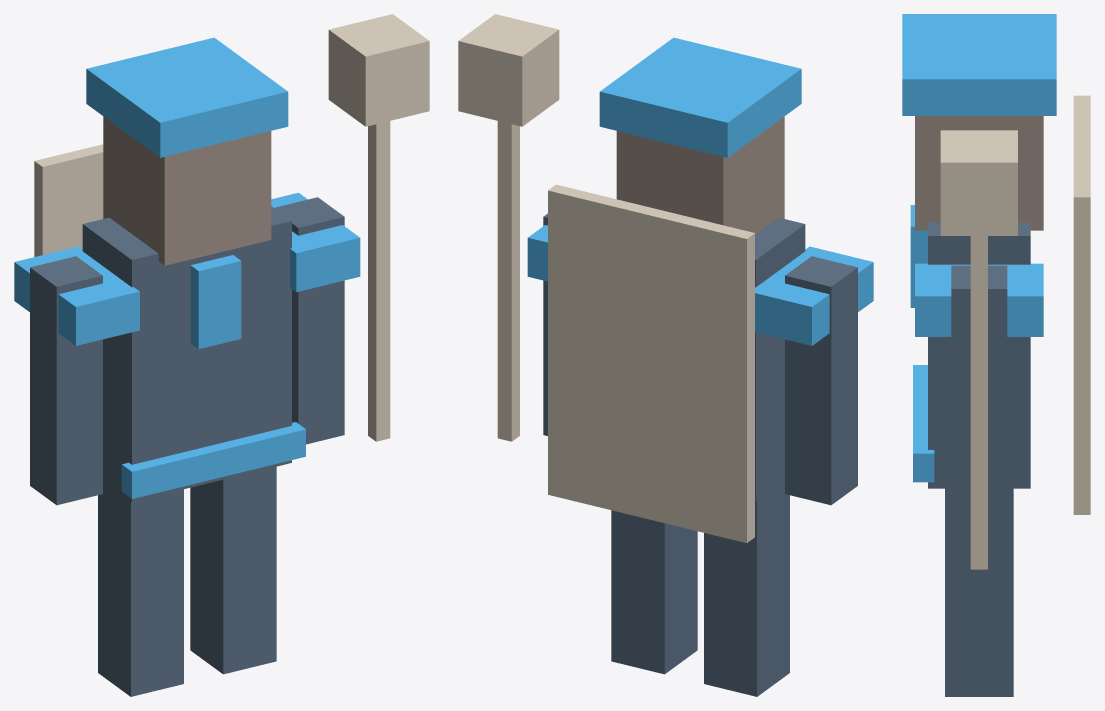
The model's file is 19_pax_emberkin_responder_at_ter.glb.
3 renders of one model, left to right at view 1: azimuth 30°, elevation 25°; view 2: azimuth 150°, elevation 25°; view 3: azimuth 270°, elevation 25°, orthographic. The views are drawn at different scales.
Parts seen in each view (by area): view 1: Pax Emberkin, Responder at Ter; view 2: Pax Emberkin, Responder at Ter; view 3: Pax Emberkin, Responder at Ter.
Part boxes in pixels (bbox=[...]): Pax Emberkin, Responder at Ter: bbox=[14, 14, 429, 696]; Pax Emberkin, Responder at Ter: bbox=[458, 14, 873, 696]; Pax Emberkin, Responder at Ter: bbox=[902, 14, 1090, 696].
Bounding box in the file's own units: 1.1 × 1.67 × 0.4658.
